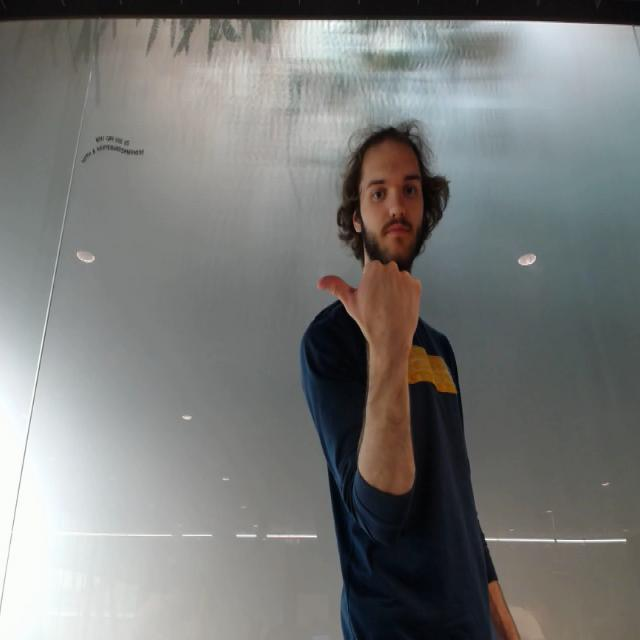left: (312, 254, 428, 356)
